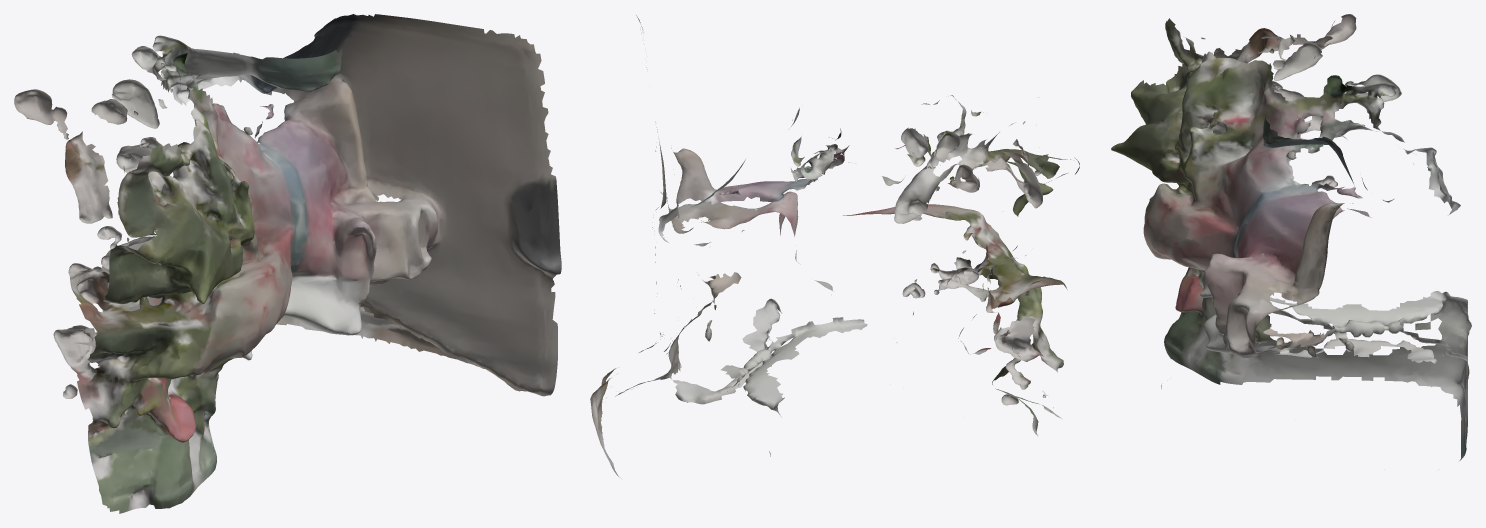
The picture shows the model from 3 angles, left to right: view 1: azimuth 30°, elevation 25°; view 2: azimuth 150°, elevation 25°; view 3: azimuth 270°, elevation 25°; orthographic projection. The views are drawn at different scales.
Size of the model in its own units: 1.4 by 1.08 by 1.08.
